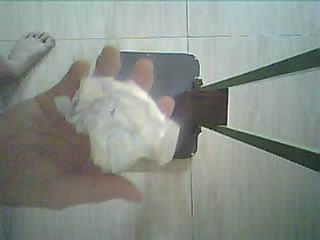paper: (56, 77, 179, 174)
